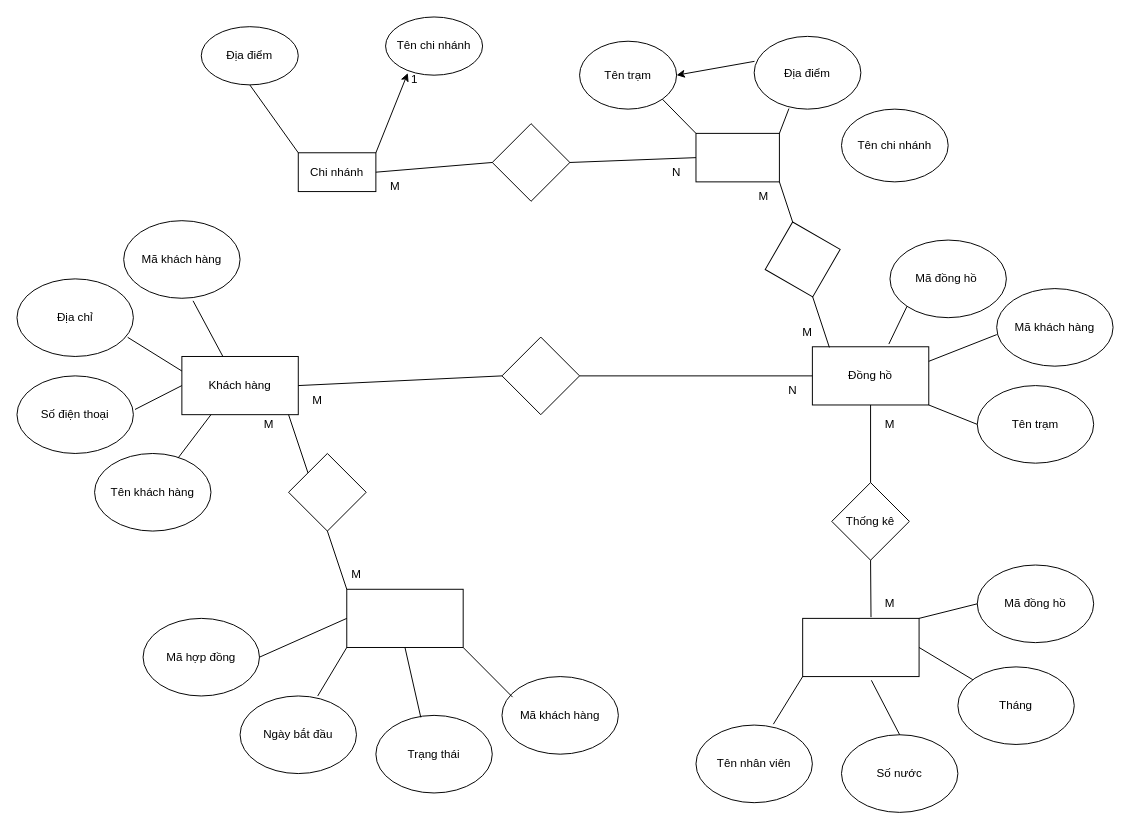
Some shapes in this 1130 by 829 pixel diagram are drawn without their labels. Each missing label, with the centre of its shape:
Chỉ số: (860,647)
Hợp đồng: (404,617)
Ký kết: (327,492)
Quản lý: (530,162)
Sở hữu: (540,375)
Trạm bơm: (737,157)
Đo lượng nước: (802,259)
